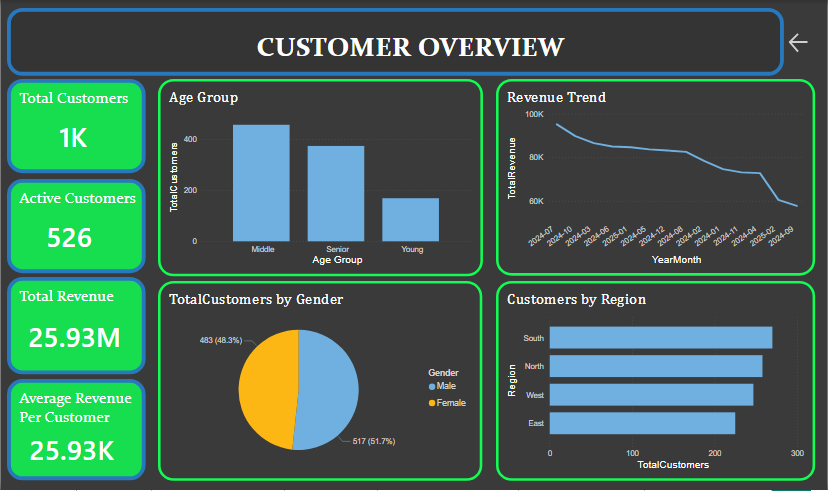

Layout of this report page (visuals, bound fields, positions):
{"tool":"powerbi","page":{"name":"CUST OVERVIEW","canvas":[1280,760],"ordinal":1},"visuals":[{"type":"cardVisual","title":"Total Customers","fields":{"Data":["Customer_Master.TotalCustomers"]},"box":[10.1,122.6,215,146.1],"z":0},{"type":"cardVisual","title":"Active Customers","fields":{"Data":["Subscription.ActiveCustomers"]},"box":[9.8,277,214.8,145.9],"z":1000},{"type":"cardVisual","title":"Average Revenue Per Customer","fields":{"Data":["Engagement.Avg Revenue per Customer"]},"box":[9.8,588.5,214.8,157.4],"z":2000},{"type":"lineChart","title":"Revenue Trend","fields":{"Category":["DateTable.YearMonth"],"Y":["Customer_Master.TotalRevenue"]},"box":[767.2,123,495.1,304.9],"z":3000},{"type":"barChart","title":"Customers by Region","fields":{"Category":["Customer_Master.Region"],"Y":["Customer_Master.TotalCustomers"]},"box":[767.2,436.1,495.1,309.8],"z":4000},{"type":"pieChart","fields":{"Category":["Customer_Master.Gender"],"Y":["Customer_Master.TotalCustomers"]},"box":[244.3,436.1,503.3,309.8],"z":5000},{"type":"columnChart","title":"Age Group","fields":{"Category":["Customer_Master.Age Group"],"Y":["Customer_Master.TotalCustomers"]},"box":[243.6,122.6,503.9,305.7],"z":6000},{"type":"textbox","box":[9.8,13.1,1204.9,104.9],"z":7000},{"type":"cardVisual","title":"   Total Revenue","fields":{"Data":["Customer_Master.TotalRevenue"]},"box":[9.8,429.5,214.8,150.8],"z":8000},{"type":"actionButton","box":[1218,45.9,49.2,39.3],"z":9000}]}

Visuals, with their boxes in screenshot pixels (x1, y1, x2, y2), scaled from the page's 1280x760 canvas onto the 828x491 screenshot:
"Total Customers" cardVisual: 7/79/146/174
"Active Customers" cardVisual: 6/179/145/273
"Average Revenue Per Customer" cardVisual: 6/380/145/482
"Revenue Trend" lineChart: 496/79/817/276
"Customers by Region" barChart: 496/282/817/482
pieChart - Customer_Master.Gender x Customer_Master.TotalCustomers: 158/282/484/482
"Age Group" columnChart: 158/79/484/277
textbox: 6/8/786/76
"   Total Revenue" cardVisual: 6/277/145/375
actionButton: 788/30/820/55
